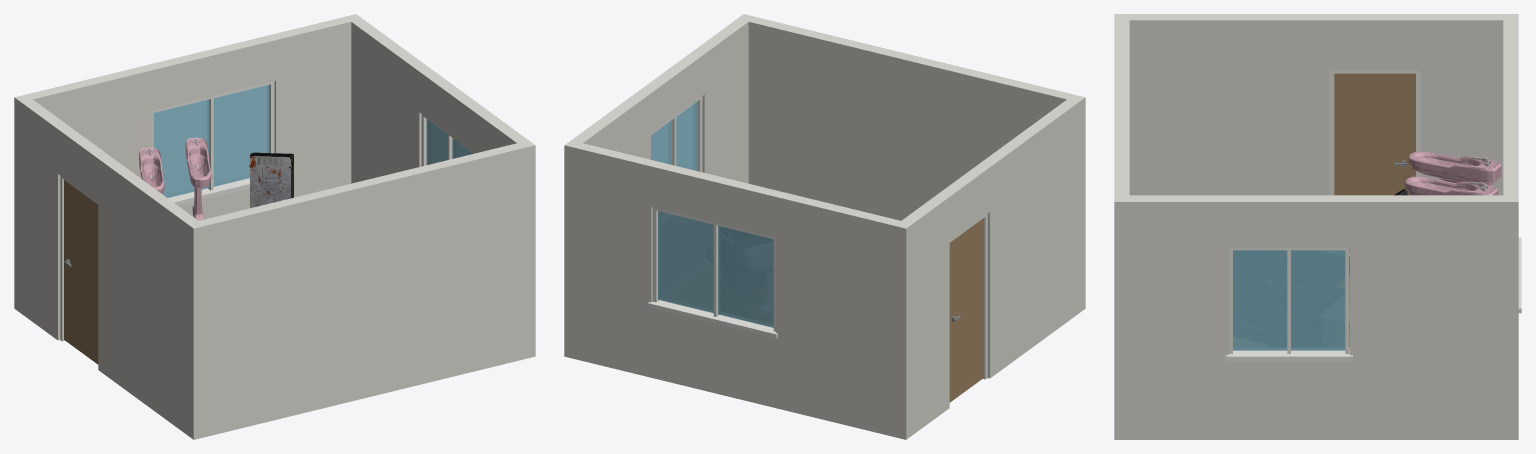
File: layoutvlm.glb
3 renders of one model, left to right at view 1: azimuth 30°, elevation 25°; view 2: azimuth 150°, elevation 25°; view 3: azimuth 270°, elevation 25°, orthographic. The views are drawn at different scales.
Visible parts, largest first — view 1: wall|scenesmith_091__R00|0, wall|scenesmith_091__R00|2, wall|scenesmith_091__R00|1, wall|scenesmith_091__R00|3, wall|scenesmith_091__R00|1 Window 0 | glazing, wall|scenesmith_091__R00|2 Door 0 | wood leaf, scenesmith_091__R00_sink-0, scenesmith_091__R00_stove-0, wall|scenesmith_091__R00|1 Window 0 | jamb, wall|scenesmith_091__R00|3 Window 0 | glazing, wall|scenesmith_091__R00|2 Door 0 | jamb, wall|scenesmith_091__R00|3 Window 0 | jamb; view 2: wall|scenesmith_091__R00|1, wall|scenesmith_091__R00|0, wall|scenesmith_091__R00|2, wall|scenesmith_091__R00|3, wall|scenesmith_091__R00|1 Window 0 | glazing, wall|scenesmith_091__R00|2 Door 0 | wood leaf, wall|scenesmith_091__R00|1 Window 0 | jamb, wall|scenesmith_091__R00|3 Window 0 | glazing, wall|scenesmith_091__R00|3 Window 0 | jamb, wall|scenesmith_091__R00|2 Door 0 | jamb; view 3: wall|scenesmith_091__R00|3, wall|scenesmith_091__R00|2, wall|scenesmith_091__R00|3 Window 0 | glazing, wall|scenesmith_091__R00|2 Door 0 | wood leaf, wall|scenesmith_091__R00|1, scenesmith_091__R00_sink-0, wall|scenesmith_091__R00|3 Window 0 | jamb, wall|scenesmith_091__R00|0, wall|scenesmith_091__R00|2 Door 0 | jamb.
Boxes of the visible parts, x1,y1,x2,y2 form: wall|scenesmith_091__R00|0: (193,143,535,439); wall|scenesmith_091__R00|2: (15,94,205,439); wall|scenesmith_091__R00|1: (14,17,351,313); wall|scenesmith_091__R00|3: (345,14,534,183); wall|scenesmith_091__R00|1 Window 0 | glazing: (153,85,269,197); wall|scenesmith_091__R00|2 Door 0 | wood leaf: (64,180,98,364); scenesmith_091__R00_sink-0: (139,137,211,220); scenesmith_091__R00_stove-0: (249,152,293,208); wall|scenesmith_091__R00|1 Window 0 | jamb: (151,81,274,205); wall|scenesmith_091__R00|3 Window 0 | glazing: (426,119,473,164); wall|scenesmith_091__R00|2 Door 0 | jamb: (60,176,98,341); wall|scenesmith_091__R00|3 Window 0 | jamb: (421,114,473,166); wall|scenesmith_091__R00|1: (576,143,912,439); wall|scenesmith_091__R00|0: (748,17,1073,220); wall|scenesmith_091__R00|2: (894,94,1085,439); wall|scenesmith_091__R00|3: (564,14,754,359); wall|scenesmith_091__R00|1 Window 0 | glazing: (658,211,773,327); wall|scenesmith_091__R00|2 Door 0 | wood leaf: (949,218,983,402); wall|scenesmith_091__R00|1 Window 0 | jamb: (647,207,777,338); wall|scenesmith_091__R00|3 Window 0 | glazing: (651,101,697,170); wall|scenesmith_091__R00|3 Window 0 | jamb: (651,96,702,172); wall|scenesmith_091__R00|2 Door 0 | jamb: (949,214,987,379); wall|scenesmith_091__R00|3: (1114,195,1518,439); wall|scenesmith_091__R00|2: (1114,14,1518,195); wall|scenesmith_091__R00|3 Window 0 | glazing: (1233,250,1345,350); wall|scenesmith_091__R00|2 Door 0 | wood leaf: (1334,73,1415,254); wall|scenesmith_091__R00|1: (1503,20,1518,439); scenesmith_091__R00_sink-0: (1405,151,1501,195); wall|scenesmith_091__R00|3 Window 0 | jamb: (1225,247,1352,361); wall|scenesmith_091__R00|0: (1114,20,1129,195); wall|scenesmith_091__R00|2 Door 0 | jamb: (1329,70,1420,195).
Bounding box in the file's own units: 4.43 × 2.61 × 4.03.
10 materials, 4 textured.
